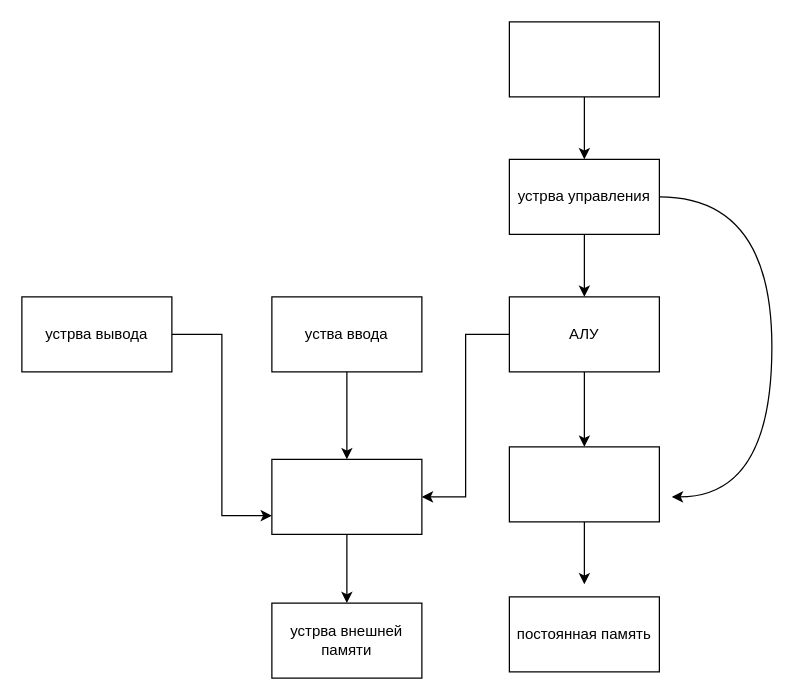
The diagram is 794 pixels wide and 700 high, and some of its shapes have lost their labels. Here are the shapes that lost their labels. From the top down, the centre of each, then its label:
At point 583,59: "пульт оператора".
At point 346,496: "каналы ввода и вывода".
At point 583,484: "оперативная память".
